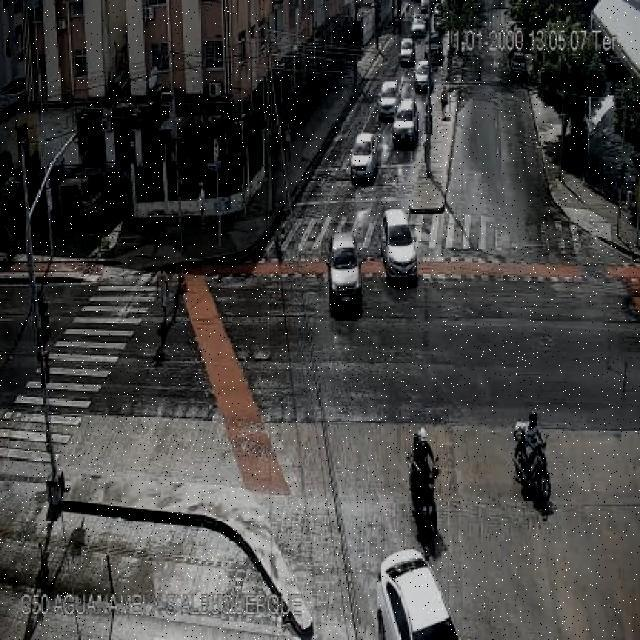Car: (356, 552, 461, 640), (368, 195, 436, 286), (310, 232, 369, 304), (347, 128, 391, 182), (386, 98, 425, 155), (372, 76, 402, 124), (410, 54, 437, 96), (393, 35, 419, 72)
Cycle: (497, 402, 569, 522), (389, 412, 452, 544)
